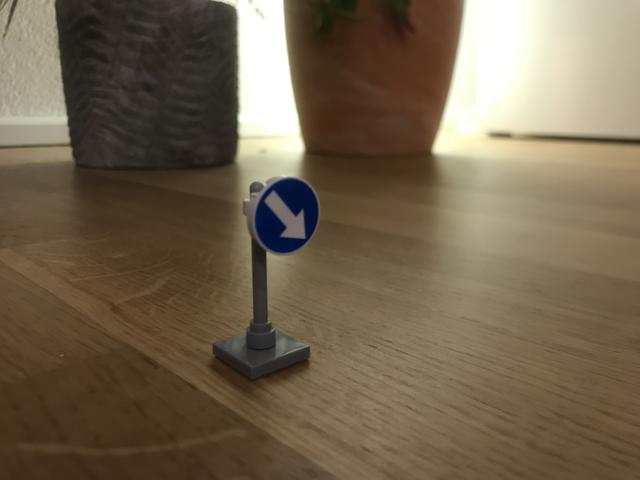rechts halten: (236, 172, 322, 264)
